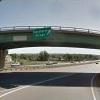Bridge: (5, 15, 98, 60)
